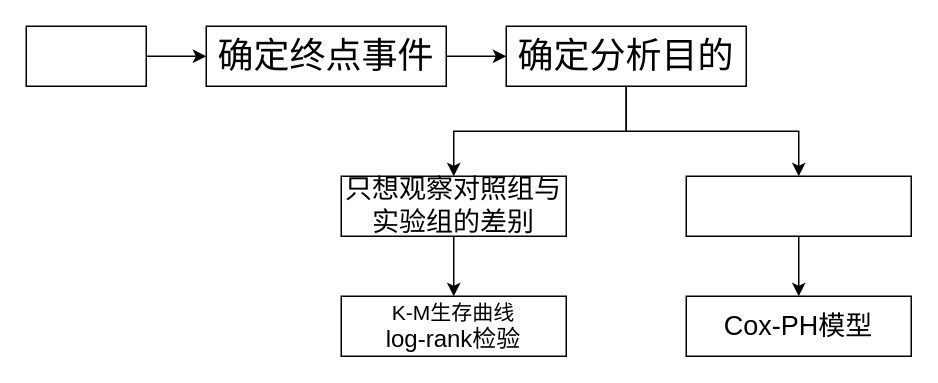
Some shapes in this 938 by 383 pixel diagram are drawn without their labels. The centre of each missing label's shape, as x and y in pixels:
数据: [85,55]
观察不同因素对于生存的差异: [798,205]
